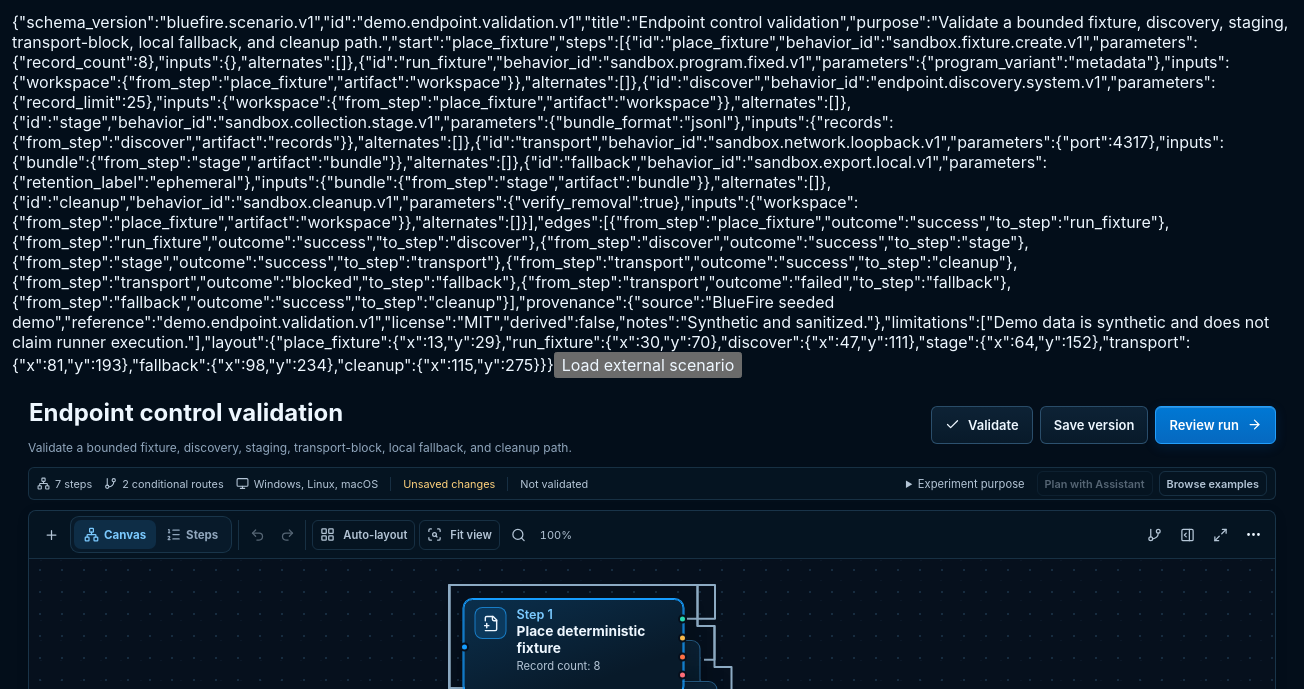
Test: Builder draft and validation identity › accepts a validation response for the unchanged submitted snapshot
Step 1. Click the button "Validate" → click(982, 425), box [931, 406, 1033, 444]
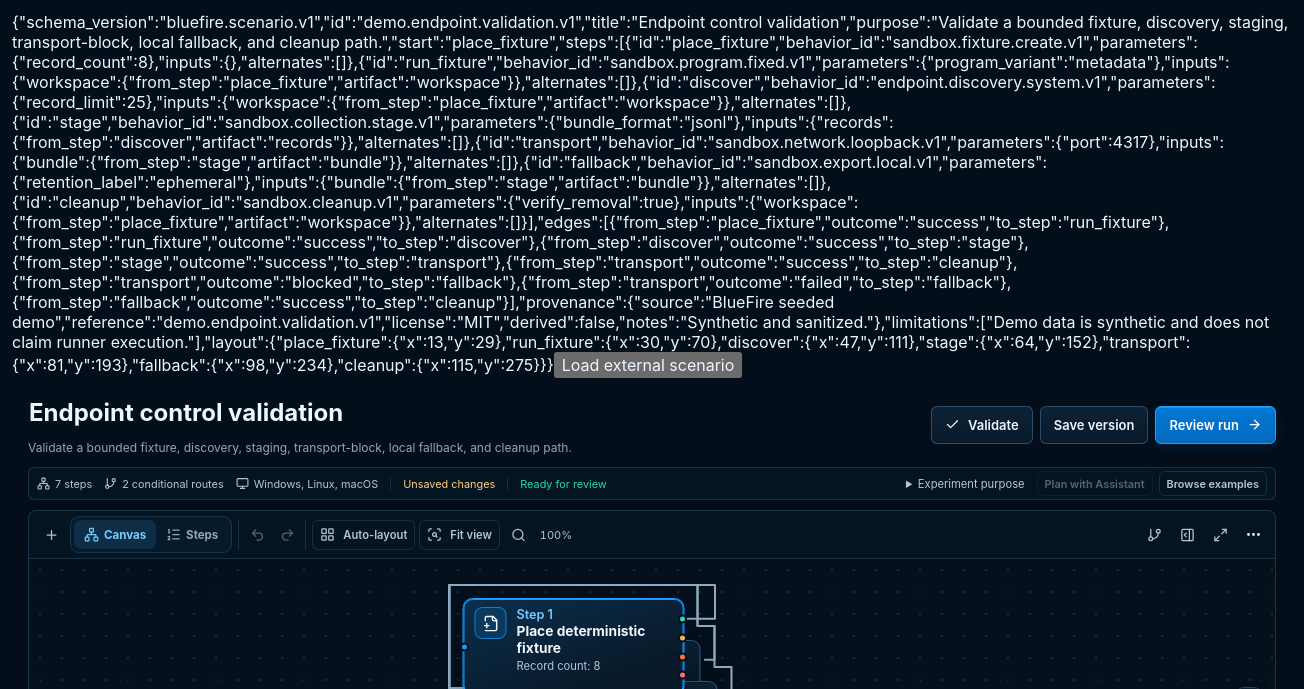
expect the text "Ready for review" is shown: met, box [507, 477, 607, 491]
